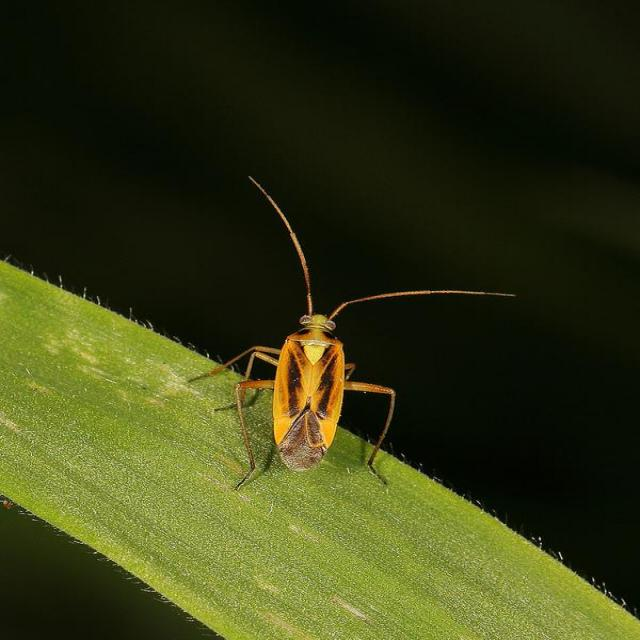Miridae-Adult-: (151, 153, 502, 486)
